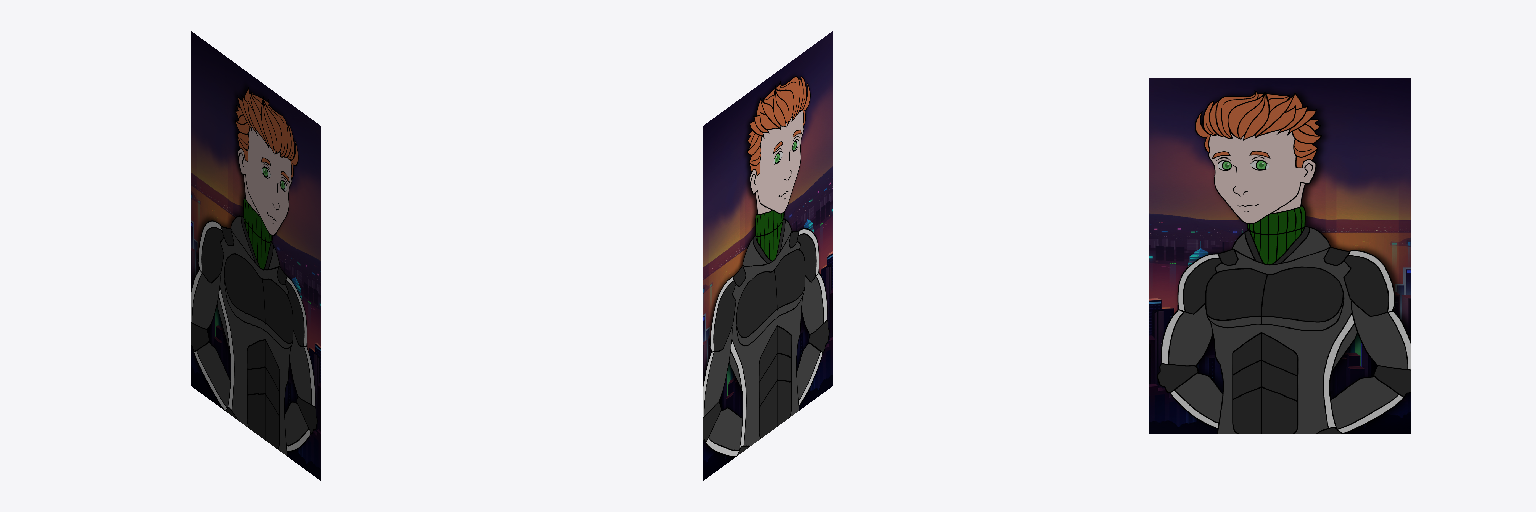
3 views of the same model, side by side, from view 1: azimuth 30°, elevation 25°; view 2: azimuth 150°, elevation 25°; view 3: azimuth 270°, elevation 25° (orthographic).
Parts seen in each view (by area): view 1: Plane; view 2: Plane; view 3: Plane.
Boxes of the visible parts, x1,y1,x2,y2 form: Plane: [191, 31, 320, 480]; Plane: [703, 31, 832, 480]; Plane: [1149, 78, 1410, 433].
Size of the model in its own units: 0 by 6 by 4.
1 materials, 1 textured.